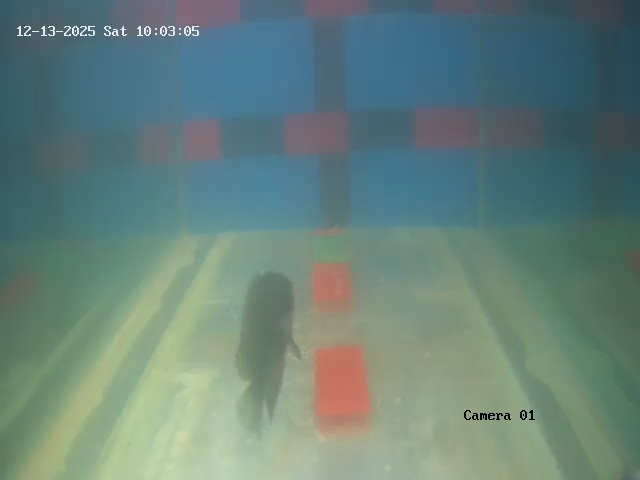fish: (234, 273, 298, 400)
